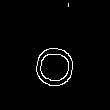O_W: (32, 50, 79, 95)
